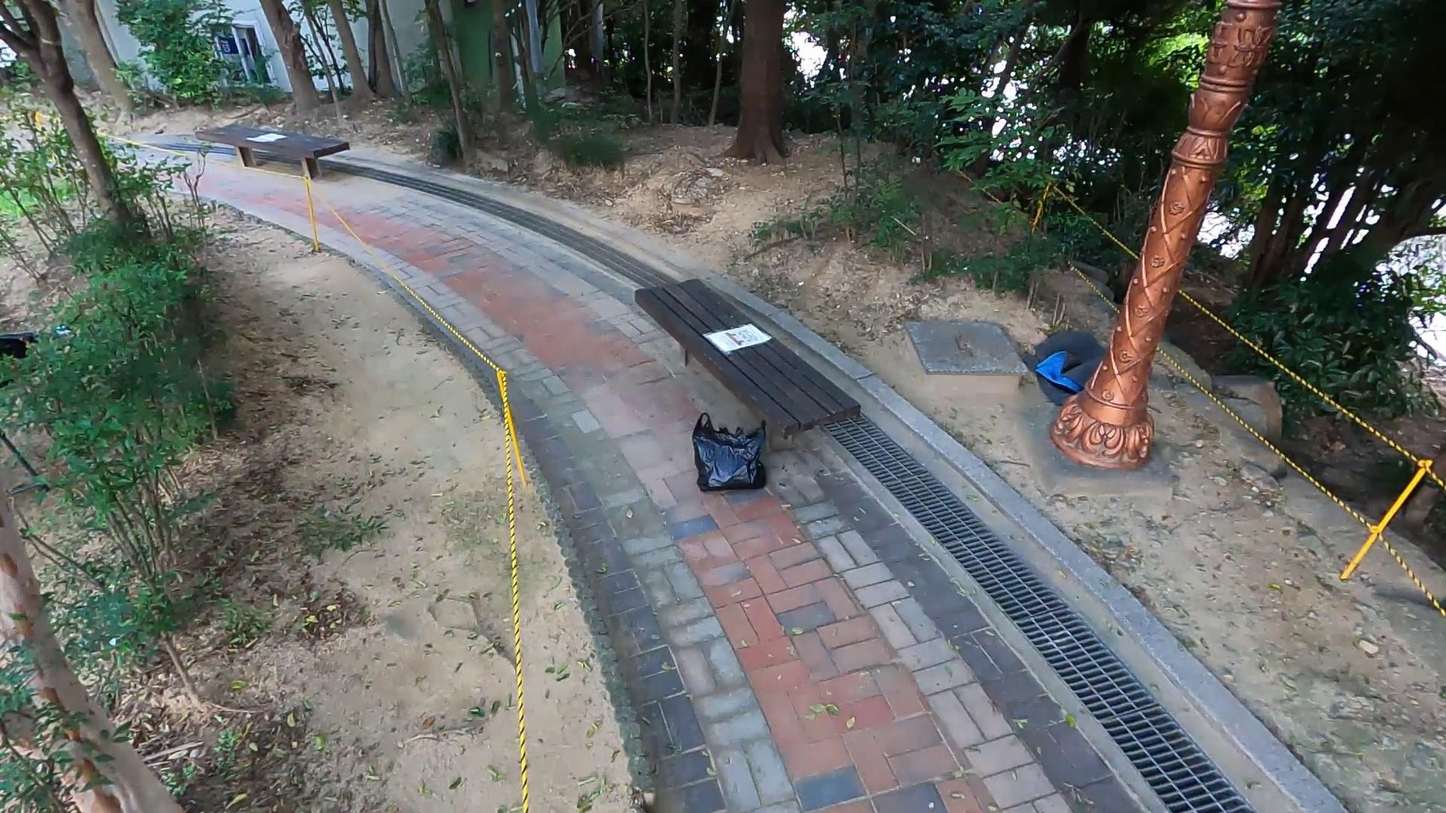trash: (1022, 319, 1110, 409), (685, 417, 775, 491)
